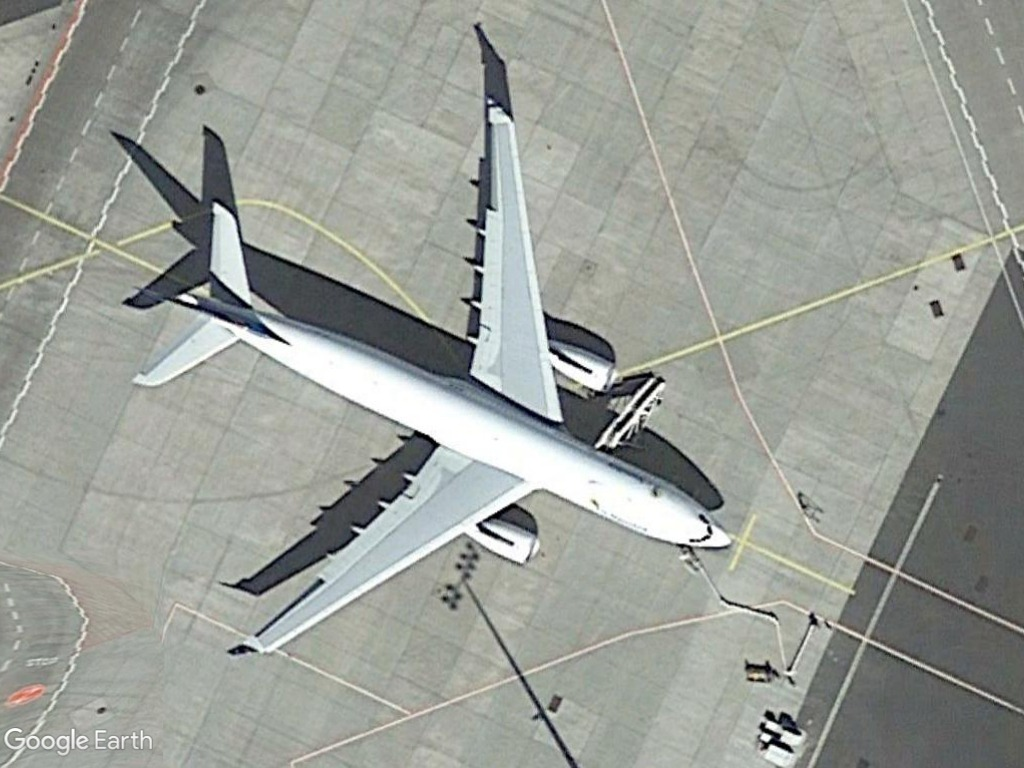airliner: (108, 71, 748, 678)
